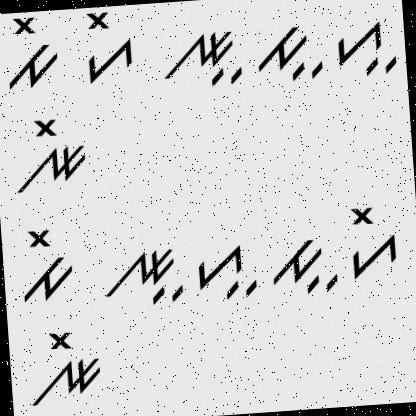hah: (327, 12, 401, 76), (191, 243, 259, 303)
ho: (71, 7, 144, 85), (346, 200, 401, 281)
mbah: (250, 18, 326, 86), (265, 232, 341, 298)
mbo: (11, 222, 77, 306), (0, 11, 64, 89)
ndah: (98, 238, 188, 310), (154, 26, 246, 92)
ndo: (8, 109, 92, 201), (24, 326, 106, 412)
